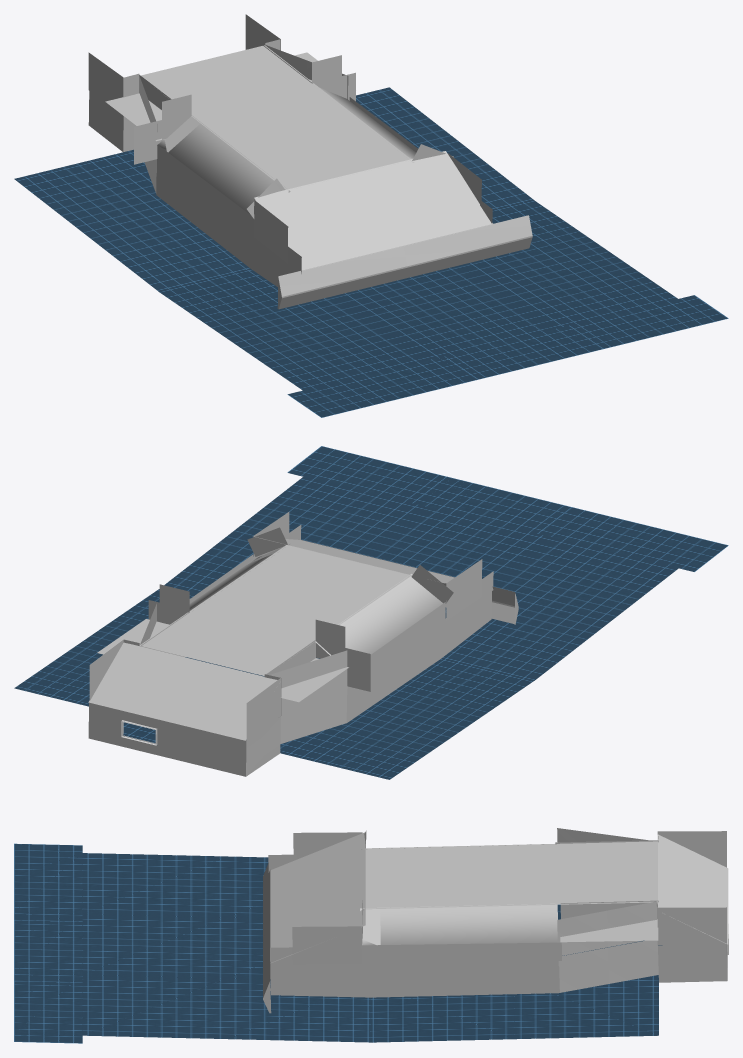
File: RoomUpgrade2.fbx
3 views of the same model, one above another, from view 1: azimuth 30°, elevation 25°; view 2: azimuth 150°, elevation 25°; view 3: azimuth 270°, elevation 25° (orthographic).
Visible parts, largest first — view 1: Floor.004, Roof, Floor.003, Roof2.001, Floor.005, Floor.001, Floor.002, Roof2.002, WallR, WallBack, WallBack.001, Roof2.006 (+9 smaller); view 2: Floor.004, Roof, Floor.003, Floor.001, Floor.005, Roof2, Room, WallR, Floor.002, Roof2.002, WallR.001, WallR.002 (+15 smaller); view 3: Floor.003, Roof, Floor.004, Floor.005, Floor.002, WallL.002, Roof2.001, Roof2.003, Roof2, Roof2.007, WallL.001, Roof2.004 (+11 smaller).
Part boxes in pixels (x1=…): Floor.004: x1=159, y1=269, x2=478, y2=417; Roof: x1=141, y1=45, x2=410, y2=189; Floor.003: x1=460, y1=200, x2=728, y2=356; Roof2.001: x1=254, y1=151, x2=492, y2=270; Floor.005: x1=335, y1=265, x2=603, y2=379; Floor.001: x1=14, y1=149, x2=250, y2=291; Floor.002: x1=356, y1=87, x2=533, y2=209; Roof2.002: x1=158, y1=115, x2=290, y2=214; WallR: x1=156, y1=159, x2=296, y2=286; WallBack: x1=277, y1=246, x2=407, y2=309; WallBack.001: x1=403, y1=215, x2=532, y2=278; Roof2.006: x1=157, y1=144, x2=253, y2=235; Floor.004: x1=442, y1=507, x2=728, y2=680; Roof: x1=140, y1=545, x2=411, y2=675; Floor.003: x1=159, y1=446, x2=472, y2=597; Floor.001: x1=280, y1=658, x2=533, y2=779; Floor.005: x1=366, y1=476, x2=570, y2=618; Roof2: x1=88, y1=642, x2=277, y2=740; Room: x1=88, y1=702, x2=280, y2=776; WallR: x1=346, y1=591, x2=491, y2=722; Floor.002: x1=14, y1=589, x2=217, y2=706; Roof2.002: x1=315, y1=574, x2=442, y2=655; WallR.001: x1=280, y1=686, x2=347, y2=743; WallR.002: x1=269, y1=650, x2=347, y2=706; Floor.003: x1=14, y1=975, x2=370, y2=1043; Roof: x1=365, y1=841, x2=657, y2=909; Floor.004: x1=14, y1=843, x2=268, y2=921; Floor.005: x1=14, y1=914, x2=262, y2=982; Floor.002: x1=370, y1=975, x2=658, y2=1042; WallL.002: x1=270, y1=961, x2=559, y2=997; Roof2.001: x1=270, y1=832, x2=365, y2=963; Roof2.003: x1=360, y1=903, x2=557, y2=945; Roof2: x1=657, y1=834, x2=728, y2=944; Roof2.007: x1=361, y1=942, x2=561, y2=963; WallL.001: x1=558, y1=940, x2=658, y2=992; Roof2.004: x1=657, y1=907, x2=726, y2=945.
Bounding box in the file's own units: 11877 × 2819 × 18105.
